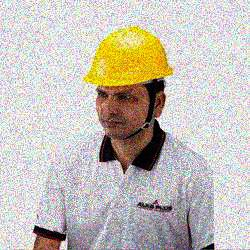helmet: (84, 25, 175, 139)
